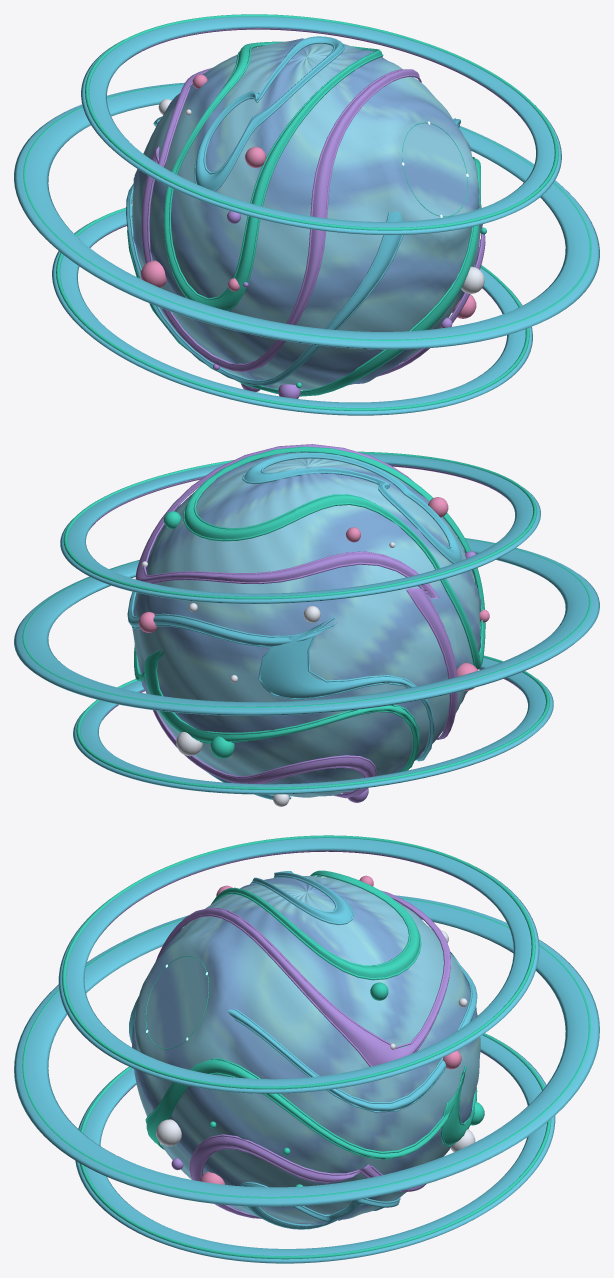
The model's file is planet-swallowing.glb.
3 renders of one model, top to bottom at view 1: azimuth 30°, elevation 25°; view 2: azimuth 150°, elevation 25°; view 3: azimuth 270°, elevation 25°, orthographic.
Visible parts, largest first — view 1: MyoSkills swallowing / Sculpted pearl · vertex colour, MyoSkills swallowing / Ice blue opal, MyoSkills swallowing / Mint opaline resin, MyoSkills swallowing / Lavender pearl, MyoSkills swallowing / Blush ceramic, MyoSkills swallowing / Ivory ceramic; view 2: MyoSkills swallowing / Sculpted pearl · vertex colour, MyoSkills swallowing / Ice blue opal, MyoSkills swallowing / Mint opaline resin, MyoSkills swallowing / Lavender pearl, MyoSkills swallowing / Blush ceramic, MyoSkills swallowing / Ivory ceramic; view 3: MyoSkills swallowing / Sculpted pearl · vertex colour, MyoSkills swallowing / Ice blue opal, MyoSkills swallowing / Mint opaline resin, MyoSkills swallowing / Lavender pearl, MyoSkills swallowing / Ivory ceramic, MyoSkills swallowing / Blush ceramic.
Part boxes in pixels (box(x1,y1,x2,y2)): MyoSkills swallowing / Sculpted pearl · vertex colour: box(132, 38, 482, 389); MyoSkills swallowing / Ice blue opal: box(14, 16, 599, 415); MyoSkills swallowing / Mint opaline resin: box(23, 14, 591, 410); MyoSkills swallowing / Lavender pearl: box(91, 28, 529, 398); MyoSkills swallowing / Blush ceramic: box(140, 74, 476, 318); MyoSkills swallowing / Ivory ceramic: box(158, 99, 484, 293); MyoSkills swallowing / Sculpted pearl · vertex colour: box(132, 452, 481, 797); MyoSkills swallowing / Ice blue opal: box(14, 452, 599, 799); MyoSkills swallowing / Mint opaline resin: box(22, 446, 590, 789); MyoSkills swallowing / Lavender pearl: box(89, 444, 522, 802); MyoSkills swallowing / Blush ceramic: box(138, 497, 489, 690); MyoSkills swallowing / Ivory ceramic: box(141, 542, 394, 806); MyoSkills swallowing / Sculpted pearl · vertex colour: box(132, 876, 480, 1224); MyoSkills swallowing / Ice blue opal: box(14, 838, 599, 1263); MyoSkills swallowing / Mint opaline resin: box(22, 835, 590, 1259); MyoSkills swallowing / Lavender pearl: box(99, 850, 506, 1218); MyoSkills swallowing / Ivory ceramic: box(156, 930, 475, 1151); MyoSkills swallowing / Blush ceramic: box(200, 875, 461, 1184).
Size of the model in its own units: 3.38 by 2.08 by 3.39.
